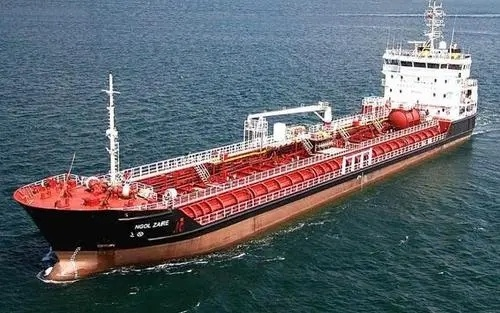Cargoship: (13, 1, 475, 273)
